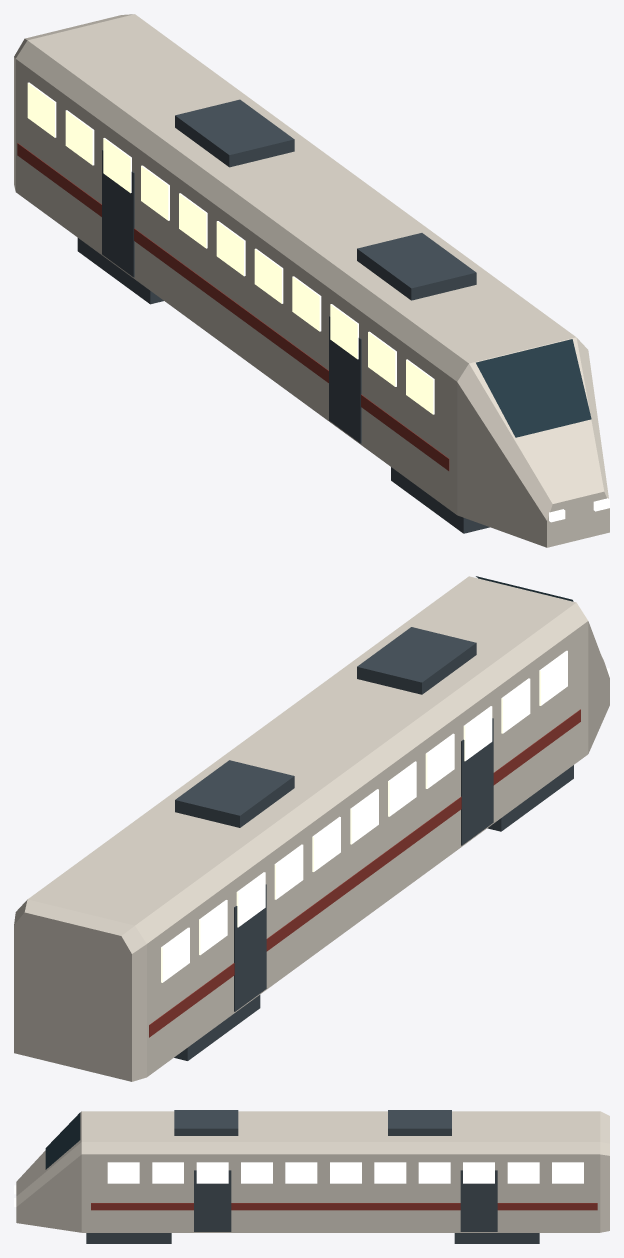
The model's file is express-cab.glb.
3 renders of one model, top to bottom at view 1: azimuth 30°, elevation 25°; view 2: azimuth 150°, elevation 25°; view 3: azimuth 270°, elevation 25°, orthographic. The views are drawn at different scales.
Size of the model in its own units: 3.01 by 3.94 by 19.57.
